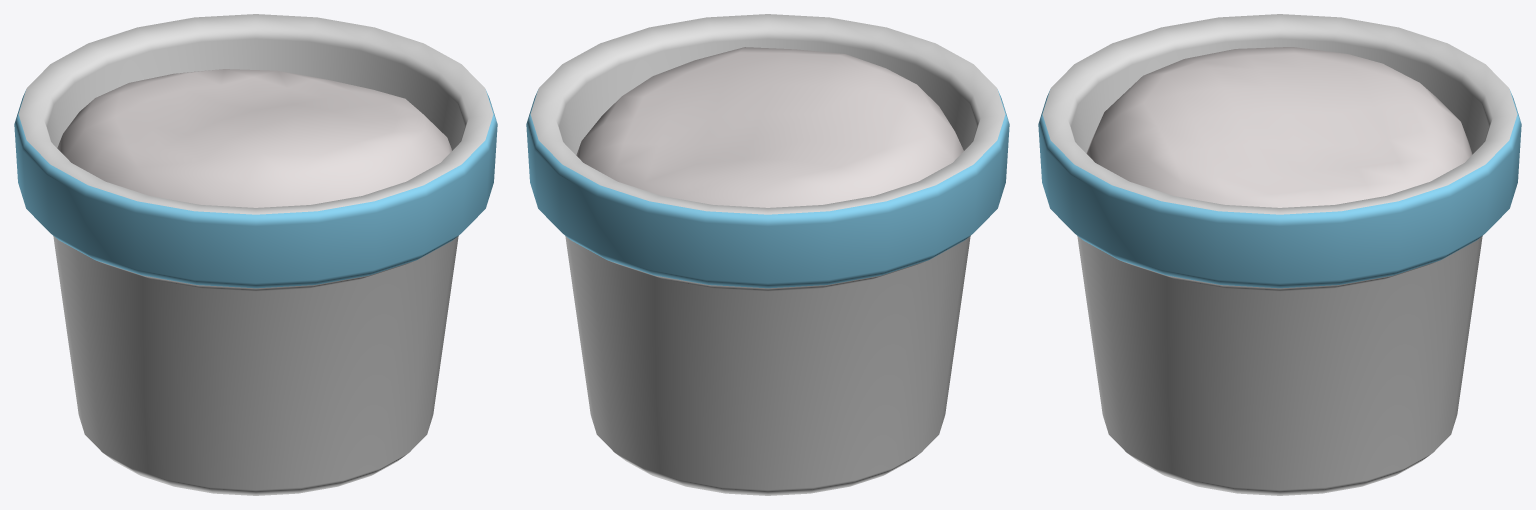
The model's file is pi_cocotteplate07_creamcheese.gltf.
3 renders of one model, left to right at view 1: azimuth 30°, elevation 25°; view 2: azimuth 150°, elevation 25°; view 3: azimuth 270°, elevation 25°, orthographic.
Visible parts, largest first — view 1: um_pi_cocotteplate07_creamcheese_model_pi_cocotteplate07_cre (×2); view 2: um_pi_cocotteplate07_creamcheese_model_pi_cocotteplate07_cre (×2); view 3: um_pi_cocotteplate07_creamcheese_model_pi_cocotteplate07_cre (×2).
Boxes of the visible parts, <box> form: um_pi_cocotteplate07_creamcheese_model_pi_cocotteplate07_cre (×2): <box>14,14,497,495</box>; um_pi_cocotteplate07_creamcheese_model_pi_cocotteplate07_cre (×2): <box>526,14,1009,495</box>; um_pi_cocotteplate07_creamcheese_model_pi_cocotteplate07_cre (×2): <box>1038,14,1521,495</box>.
Bounding box in the file's own units: 0.0797 × 0.0598 × 0.0797.
2 materials, 2 textured.
